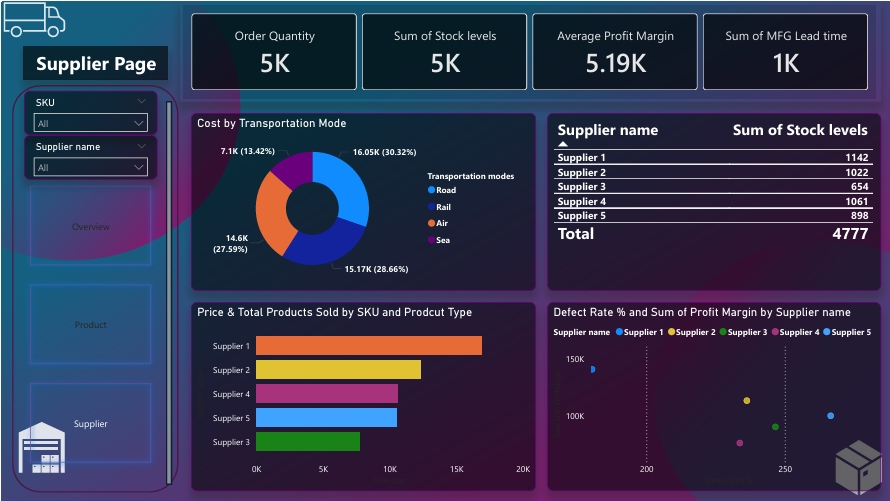

Layout of this report page (visuals, bound fields, positions):
{"tool":"powerbi","page":{"name":"Supplier","canvas":[1280,720],"ordinal":2},"visuals":[{"type":"cardVisual","fields":{"Data":["supply_chain_data_updated.Order Quantity","Sum(supply_chain_data_updated.Stock levels)","supply_chain_data_updated.Average PRofit Margin","Sum(supply_chain_data_updated.MFG Lead time)"]},"box":[256,0,1008,144],"z":0},{"type":"donutChart","title":"Cost by Transportation Mode","fields":{"Y":["Sum(supply_chain_data_updated.Costs)"],"Category":["supply_chain_data_updated.Transportation modes"]},"box":[272,160,496,256],"z":1000},{"type":"barChart","title":"Price & Total Products Sold by SKU and Prodcut Type","fields":{"Category":["supply_chain_data_updated.Supplier name"],"Y":["supply_chain_data_updated.Total Cost"]},"box":[272,432,496,272],"z":2000},{"type":"tableEx","fields":{"Values":["supply_chain_data_updated.Supplier name","Sum(supply_chain_data_updated.Stock levels)"]},"box":[784,160,480,256],"z":3000},{"type":"scatterChart","fields":{"X":["supply_chain_data_updated.Defect Rate %"],"Y":["Sum(supply_chain_data_updated.Profit Margin)"],"Series":["supply_chain_data_updated.Supplier name"]},"box":[784,432,480,272],"z":3001},{"type":"pageNavigator","box":[32,256,192,416],"z":3002},{"type":"slicer","fields":{"Values":["supply_chain_data_updated.SKU"]},"box":[32,128,192,64],"z":3003},{"type":"slicer","fields":{"Values":["supply_chain_data_updated.Supplier name"]},"box":[32,192,192,64],"z":3004},{"type":"textbox","box":[32,64,208,48],"z":3005}]}

Visuals, with their boxes in screenshot pixels (x1, y1, x2, y2), scaled from the page's 1280x720 canvas onto the 890x501 screenshot:
cardVisual - supply_chain_data_updated.Order Quantity x Sum(supply_chain_data_updated.Stock levels): x1=178 y1=0 x2=879 y2=100
"Cost by Transportation Mode" donutChart: x1=189 y1=111 x2=534 y2=289
"Price & Total Products Sold by SKU and Prodcut Type" barChart: x1=189 y1=301 x2=534 y2=490
tableEx - supply_chain_data_updated.Supplier name x Sum(supply_chain_data_updated.Stock levels): x1=545 y1=111 x2=879 y2=289
scatterChart - supply_chain_data_updated.Defect Rate % x Sum(supply_chain_data_updated.Profit Margin): x1=545 y1=301 x2=879 y2=490
pageNavigator: x1=22 y1=178 x2=156 y2=468
slicer - supply_chain_data_updated.SKU: x1=22 y1=89 x2=156 y2=134
slicer - supply_chain_data_updated.Supplier name: x1=22 y1=134 x2=156 y2=178
textbox: x1=22 y1=45 x2=167 y2=78
